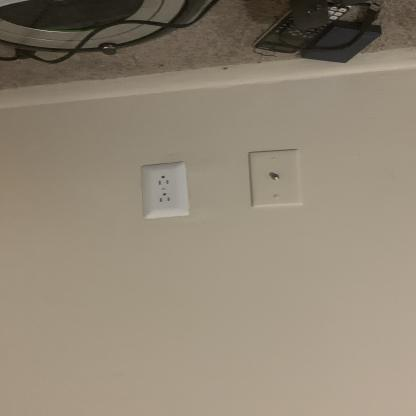OUTLET: (143, 162, 187, 219)
